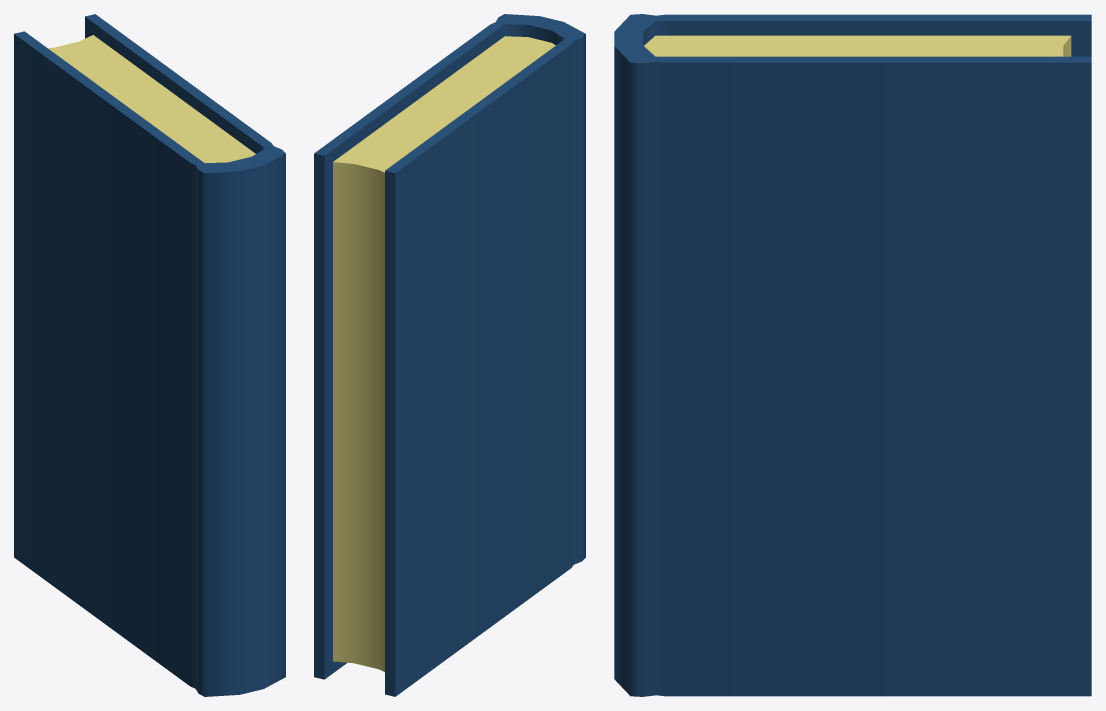
Rendered from book_blue.fbx.
3 views of the same model, side by side, from view 1: azimuth 30°, elevation 25°; view 2: azimuth 150°, elevation 25°; view 3: azimuth 270°, elevation 25° (orthographic). The views are drawn at different scales.
Visible parts, largest first — view 1: Book_Small_Green; view 2: Book_Small_Green; view 3: Book_Small_Green.
Part boxes in pixels (x1,y1,x2,y2): Book_Small_Green: [14, 14, 285, 696]; Book_Small_Green: [314, 14, 585, 696]; Book_Small_Green: [614, 14, 1091, 696].
Bounding box in the file's own units: 6.3 × 37.64 × 25.69.
